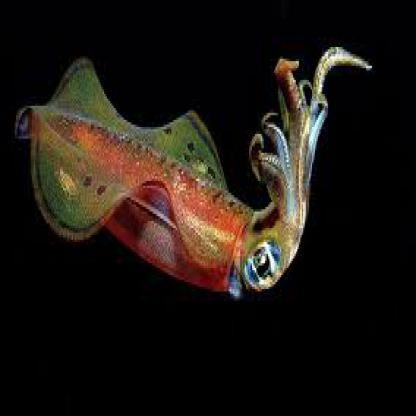colossal_squid: (9, 40, 376, 327)
